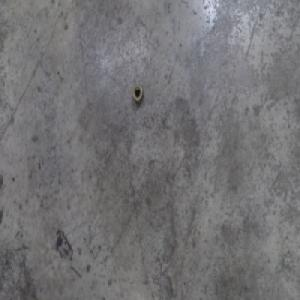Nut: (132, 83, 144, 105)
